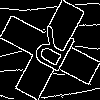R: (25, 25, 78, 82)
